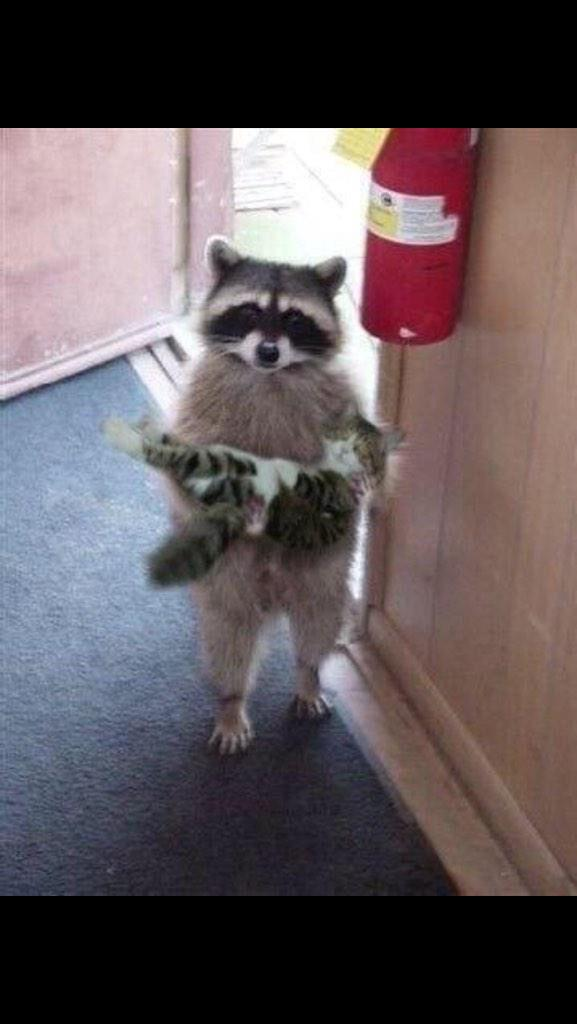raccoon: (101, 243, 399, 758)
